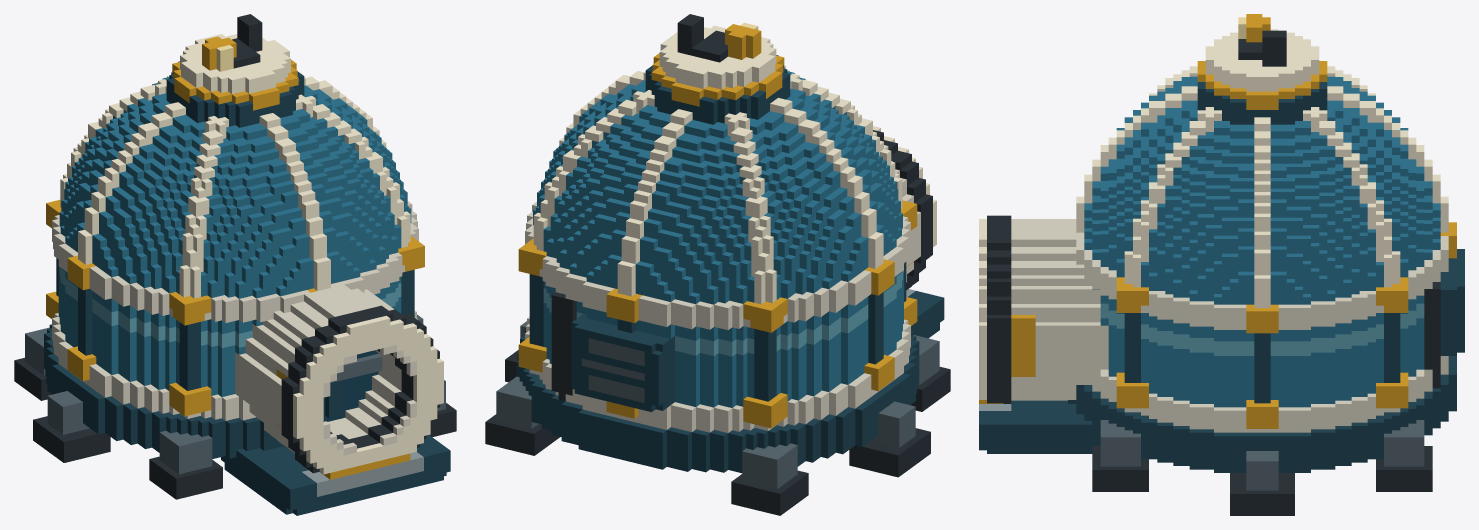
File: dome_laboratory.glb
3 renders of one model, left to right at view 1: azimuth 30°, elevation 25°; view 2: azimuth 150°, elevation 25°; view 3: azimuth 270°, elevation 25°, orthographic. The views are drawn at different scales.
Visible parts, largest first — view 1: dome_laboratory; view 2: dome_laboratory; view 3: dome_laboratory.
Boxes of the visible parts, box(x1,y1,x2,y2) form: dome_laboratory: box(14, 14, 456, 515); dome_laboratory: box(485, 14, 950, 515); dome_laboratory: box(979, 14, 1464, 515).
Bounding box in the file's own units: 6.72 × 6.48 × 7.2.
